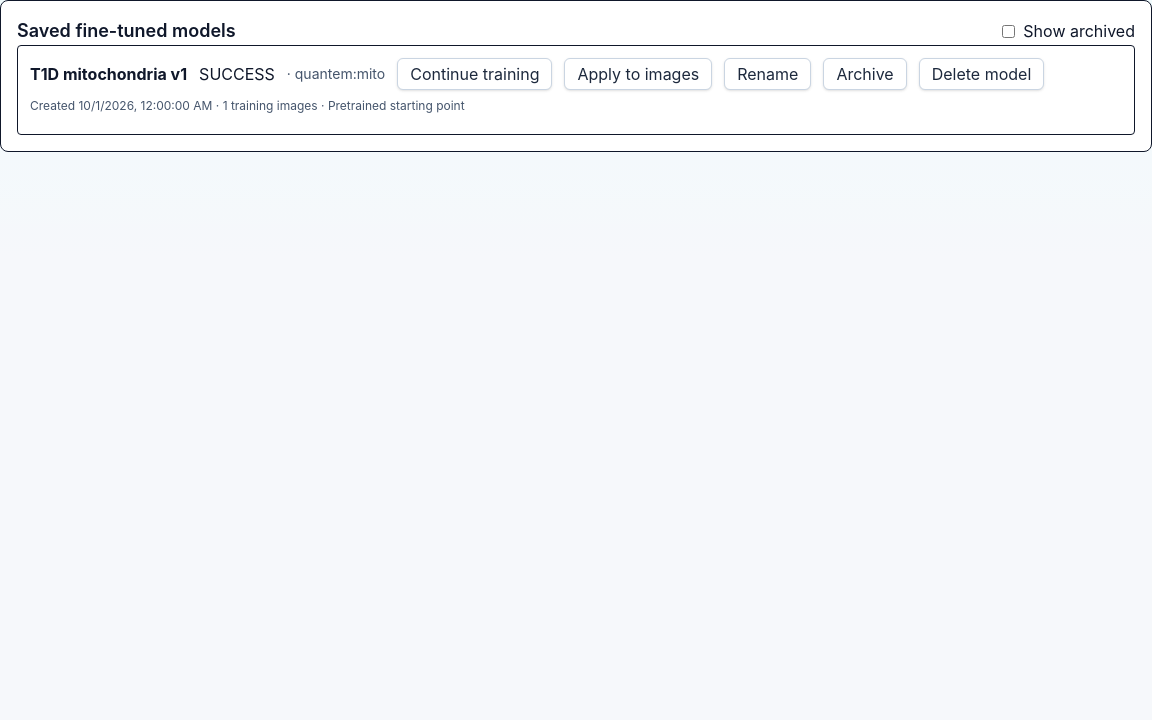
keeps the model and shows a red error when deletion is blocked by another saved model
Click the button "Delete model" at coordinates (982, 74), box [919,58,1044,90]
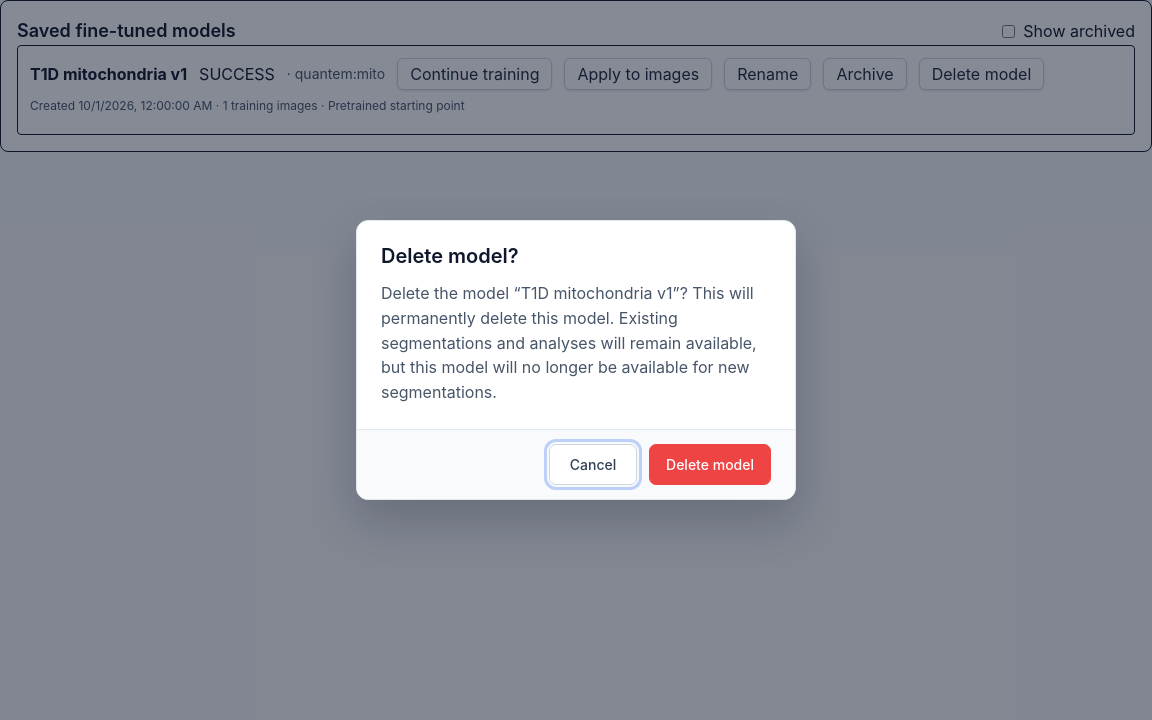
Expected: the dialog does not show "This model was used to train another saved model and cannot be deleted. You can archive it instead.", [356,220,796,500]
Click the button "Delete model" at coordinates (710, 464), box [649,444,771,485]
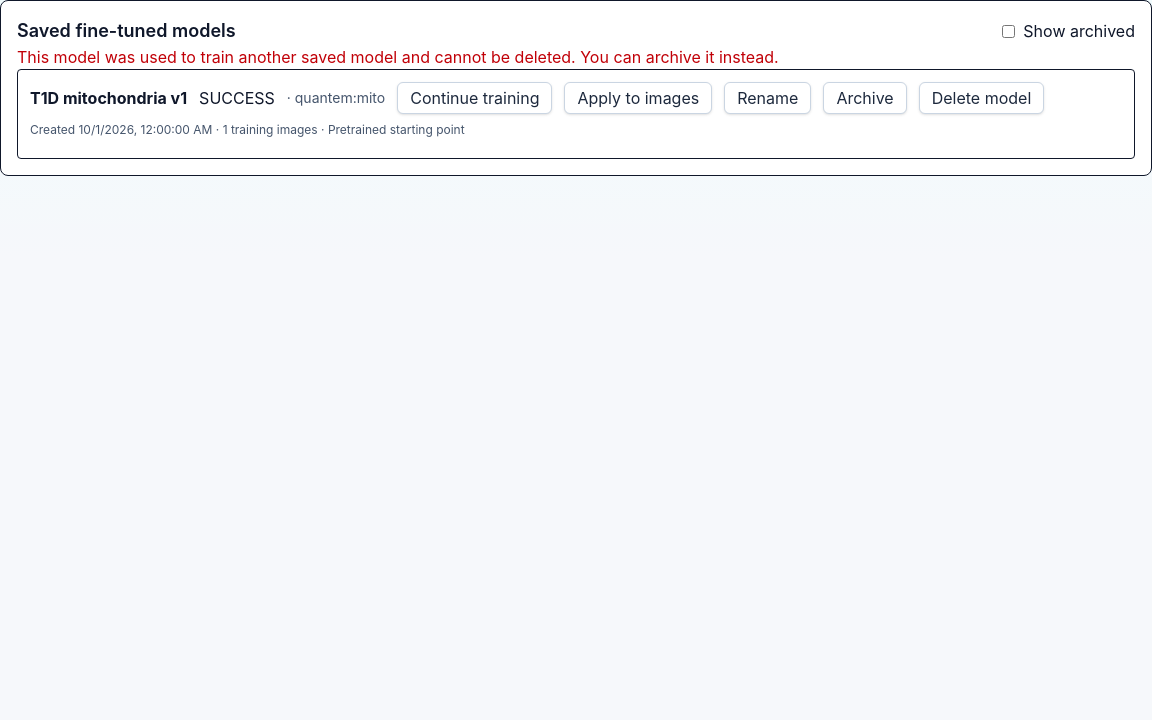
Expected: the text "T1D mitochondria v1" is shown, [30,86,187,110]
Expected: the message shows "This model was used to train another saved model and cannot be deleted. You can archive it instead.", [17,47,779,67]
